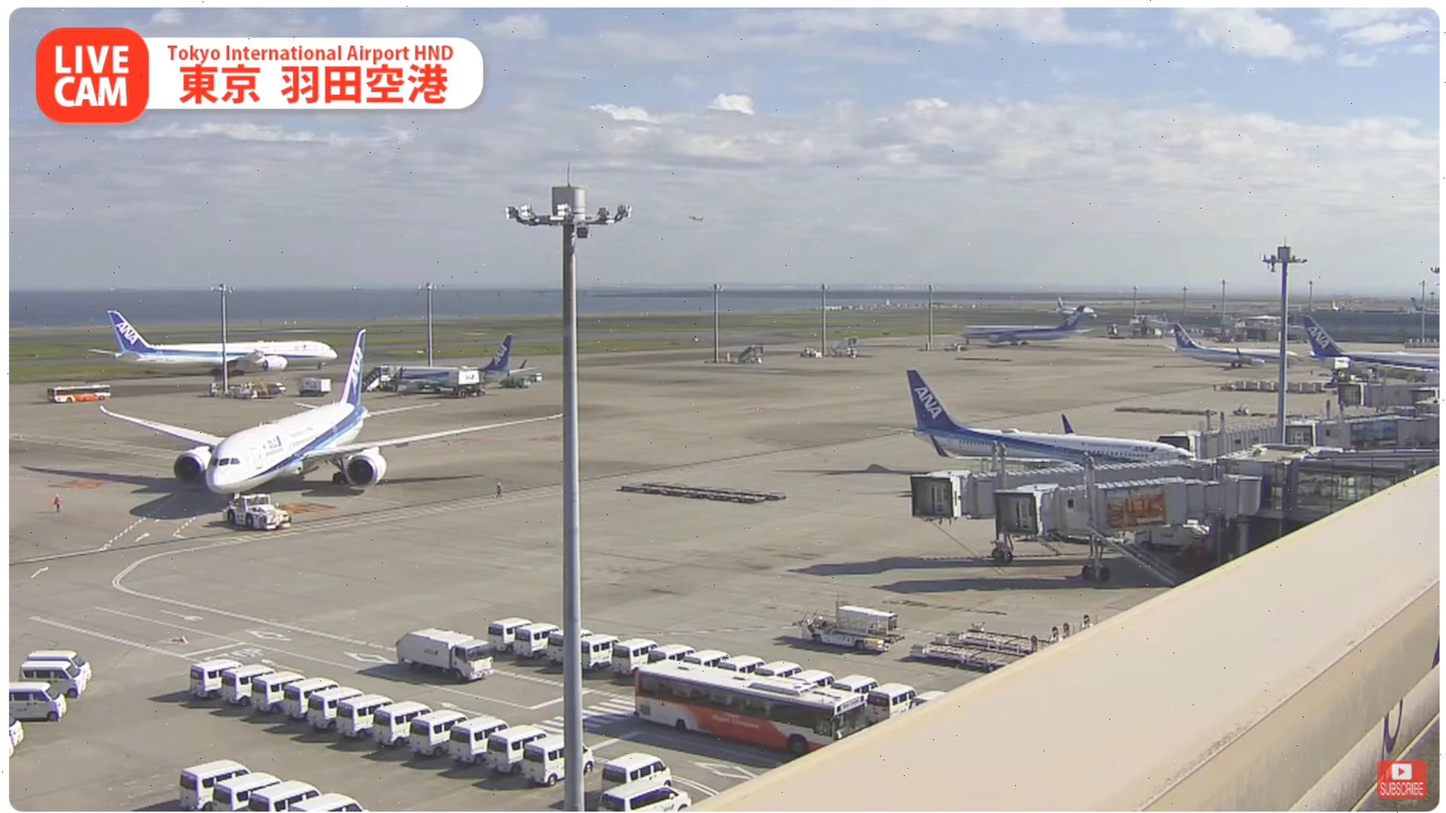APS: (225, 495, 293, 530)
Aerobridge: (911, 438, 1226, 565), (997, 451, 1259, 589)
Airplane: (95, 332, 559, 496)
Baggage truck: (396, 627, 493, 681)
JCPL: (912, 627, 1059, 672), (947, 614, 1090, 655)
Skyloader: (798, 604, 904, 652)
Window: (1290, 458, 1438, 523)
